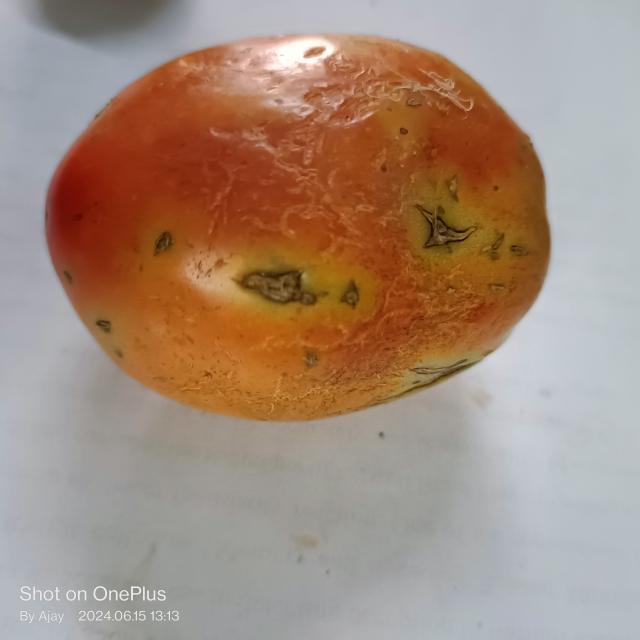Bacterial_Spot: (414, 180, 508, 264), (241, 256, 362, 310), (150, 224, 187, 258), (299, 342, 327, 374), (89, 309, 118, 335)
